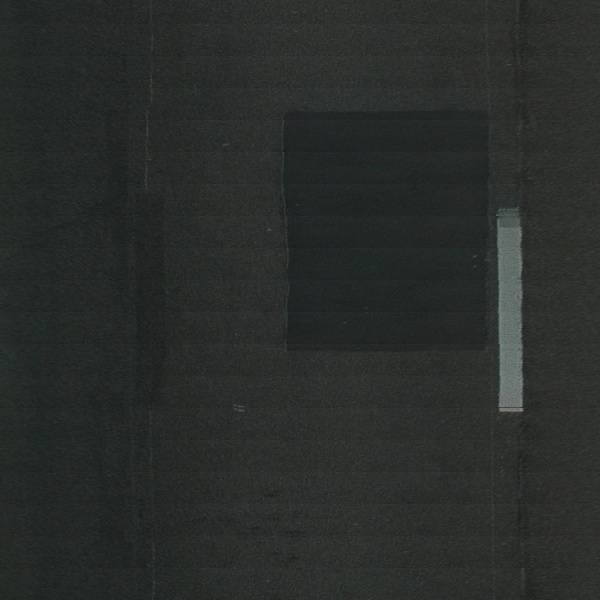road_damage: (274, 106, 493, 358), (513, 423, 536, 600)
